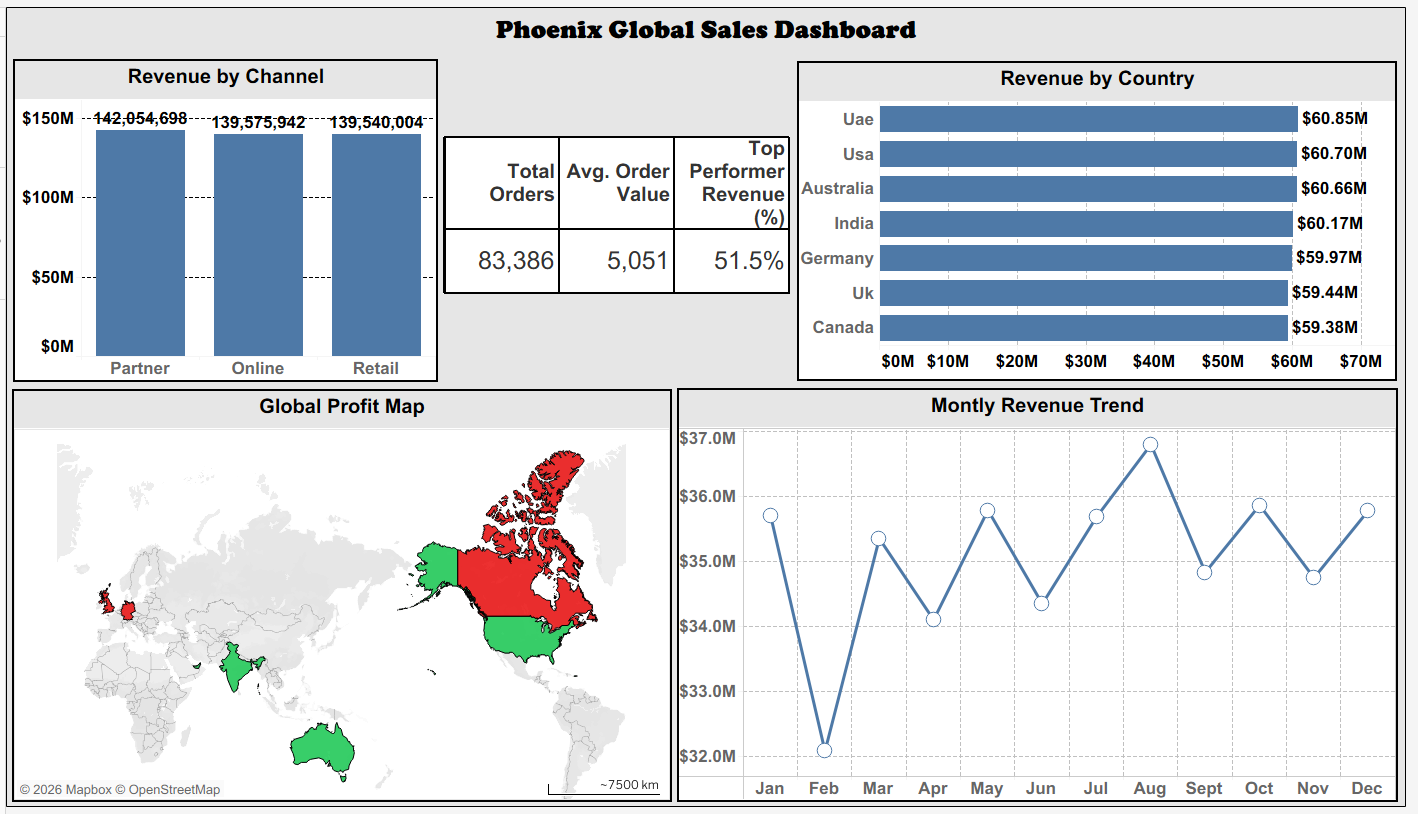

Layout of this report page (visuals, bound fields, positions):
{"tool":"tableau","page":{"name":"Geographical Sales Performance","canvas":[1400,800],"ordinal":1},"visuals":[{"type":"text","box":[0,0,1400,45]},{"type":"worksheet","title":"Revenue by Channel","mark":"Automatic","rows":["Revenue"],"cols":["Sales_Channel"],"box":[7,52,425,323]},{"type":"worksheet","title":"Revenue by Country","mark":"Automatic","rows":["Country"],"cols":["Revenue"],"box":[791,54,600,320]},{"type":"worksheet","title":"2 KPI","mark":"Automatic","box":[437,129,347,158]},{"type":"worksheet","title":"Monthly Revenue Trend","mark":"Line","rows":["Revenue","Revenue"],"cols":["Date"],"box":[671,381,721,414]},{"type":"worksheet","title":"Global Profit Map","mark":"Automatic","box":[6,382,660,413]}]}

Visuals, with their boxes in screenshot pixels (x1, y1, x2, y2), scaled from the page's 1400x800 canvas onto the 1418x814 screenshot:
text: 0 0 1417 46
"Revenue by Channel" worksheet: 7 53 438 382
"Revenue by Country" worksheet: 801 55 1409 381
"2 KPI" worksheet: 443 131 794 292
"Monthly Revenue Trend" worksheet (Line marks): 680 388 1410 809
"Global Profit Map" worksheet: 6 389 675 809
